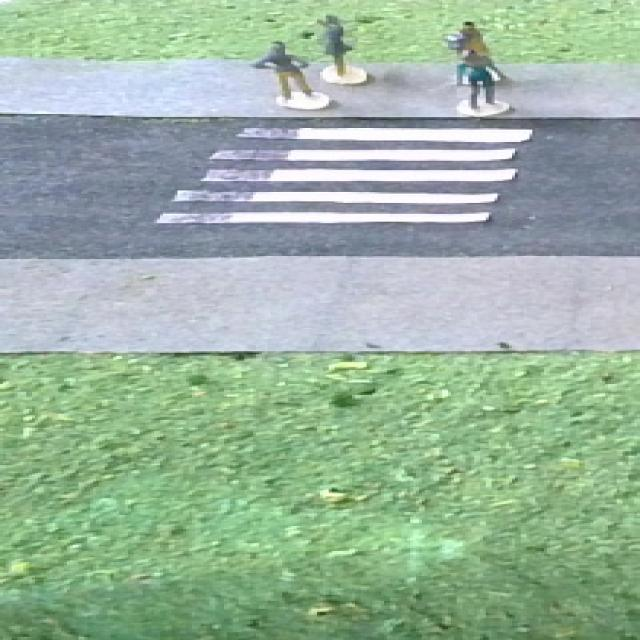person: (248, 37, 326, 113), (311, 12, 374, 87), (452, 48, 516, 120), (444, 15, 493, 48)
